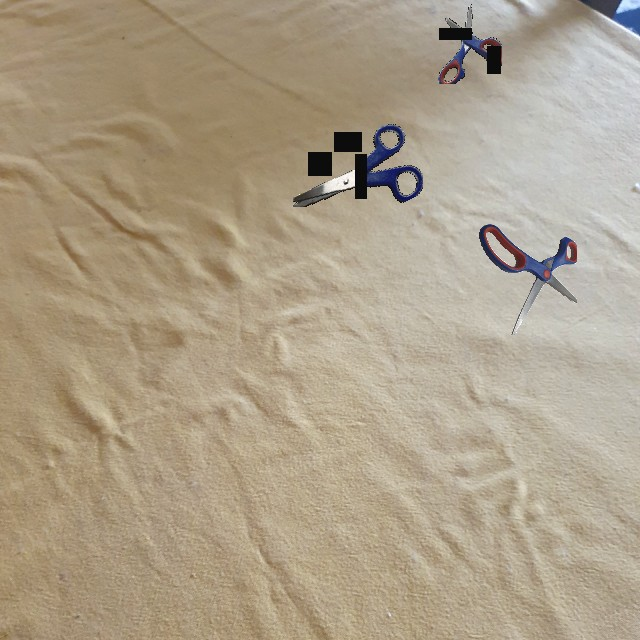scissors: (479, 224, 577, 335), (293, 124, 423, 207), (438, 4, 502, 84)
